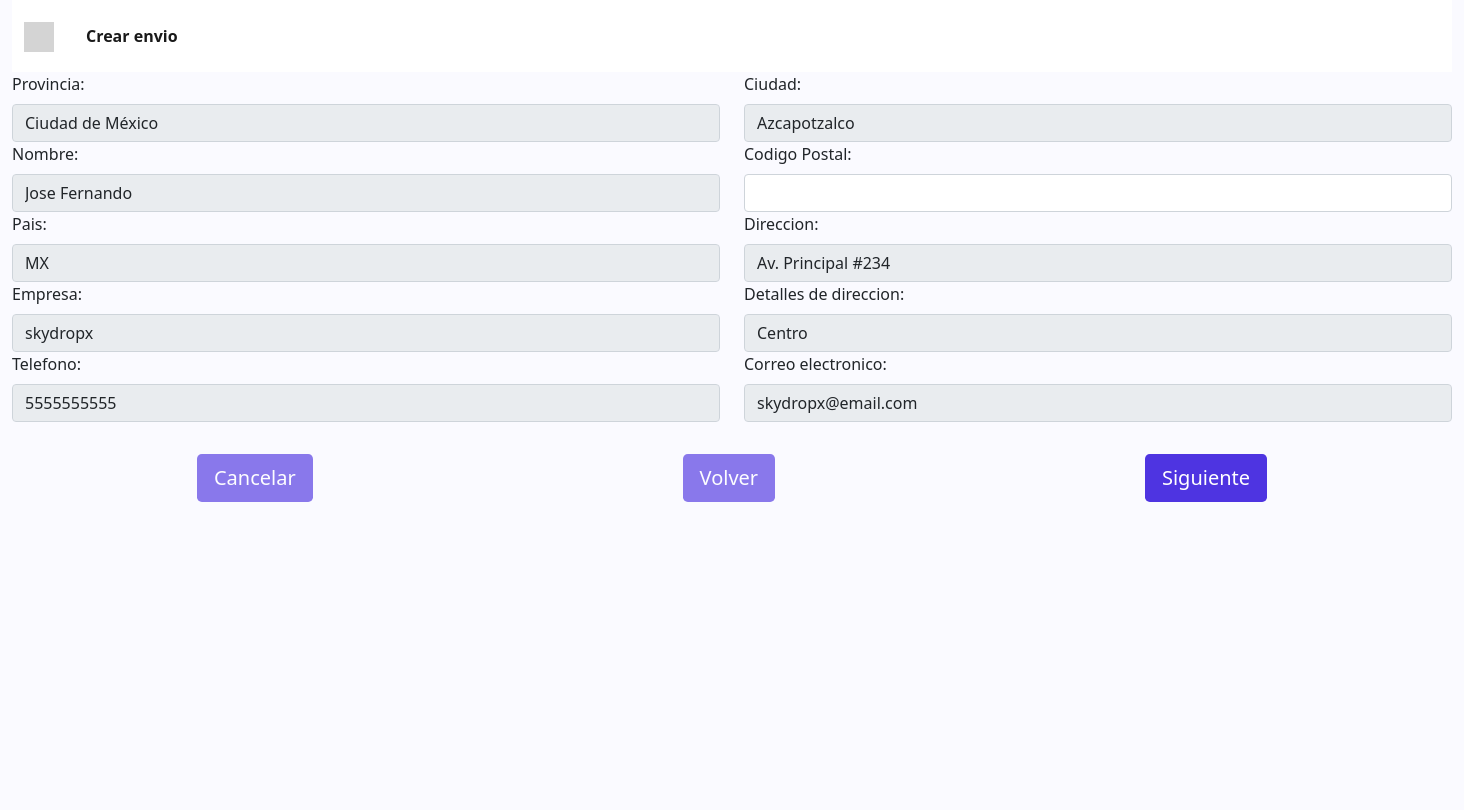
Test cases with ShippingCreation › Should render shipTo fields when role is shipper, required fields are filled and nextstep button is pressed
In the field labelled "Codigo Postal:": (1098, 193) [744,174,1452,212], type "1234"
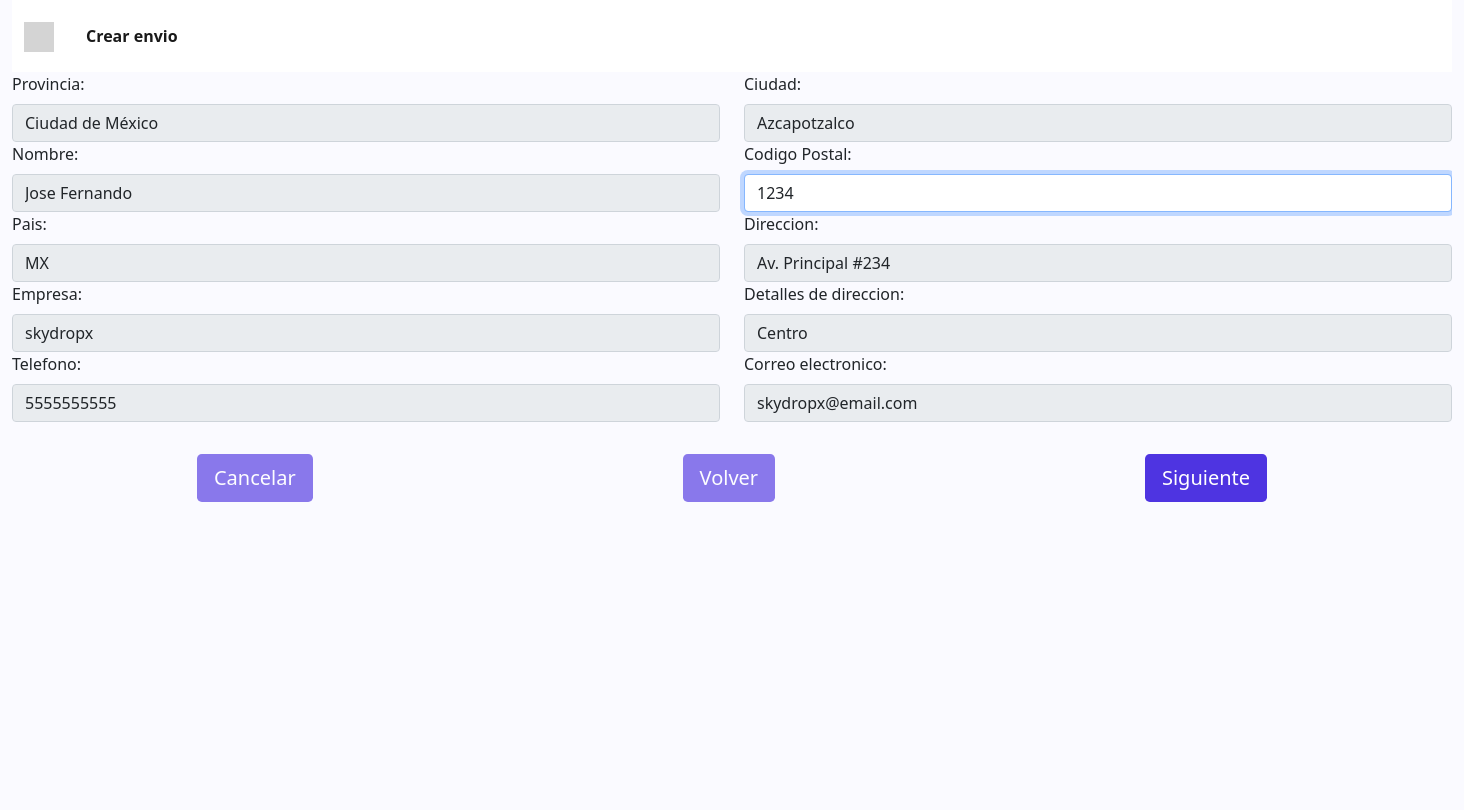
Click the button "Siguiente": (1206, 478) [1145,454,1267,502]
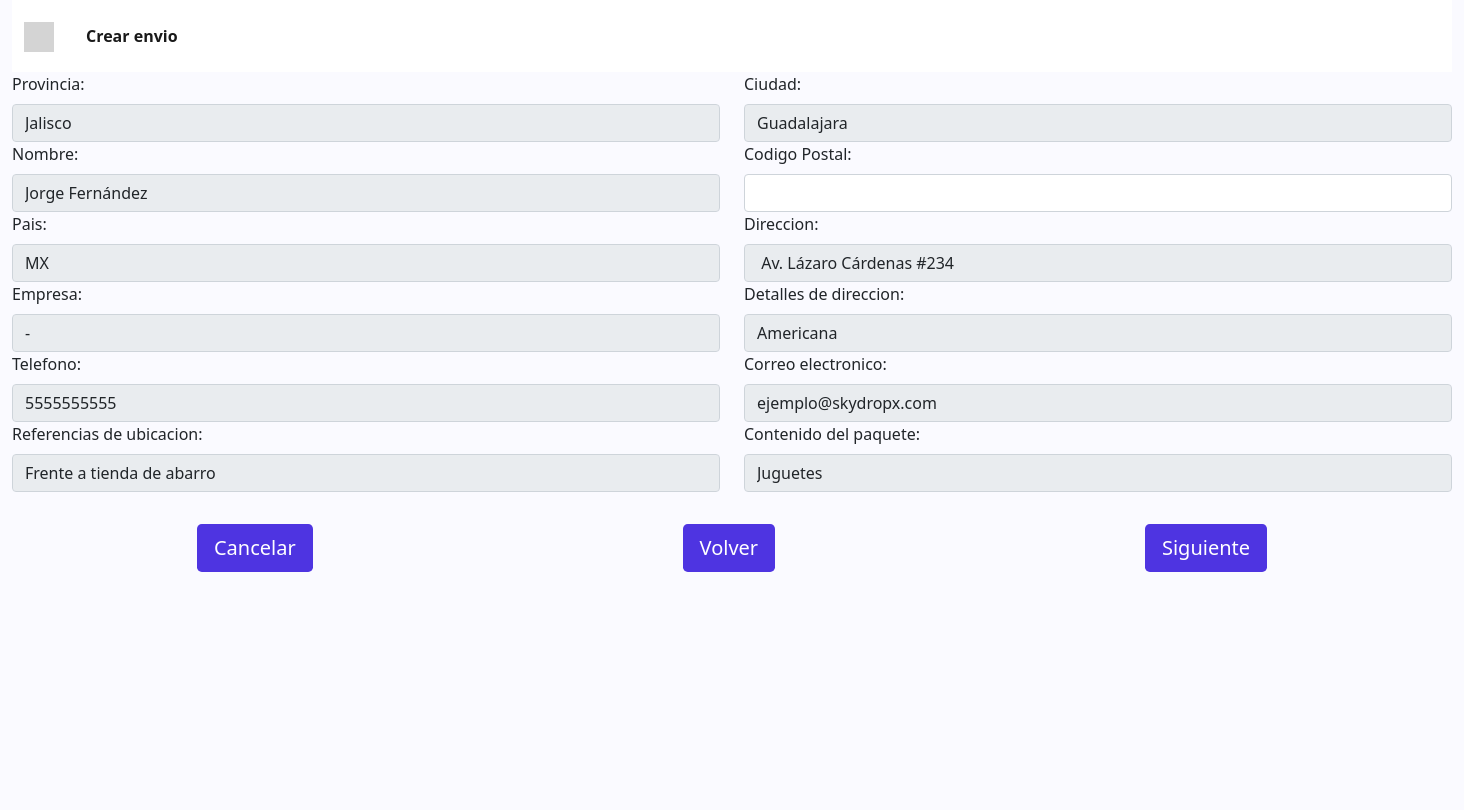
Check: the field labelled "Referencias de ubicacion:" is shown, box [12,454,720,492]
